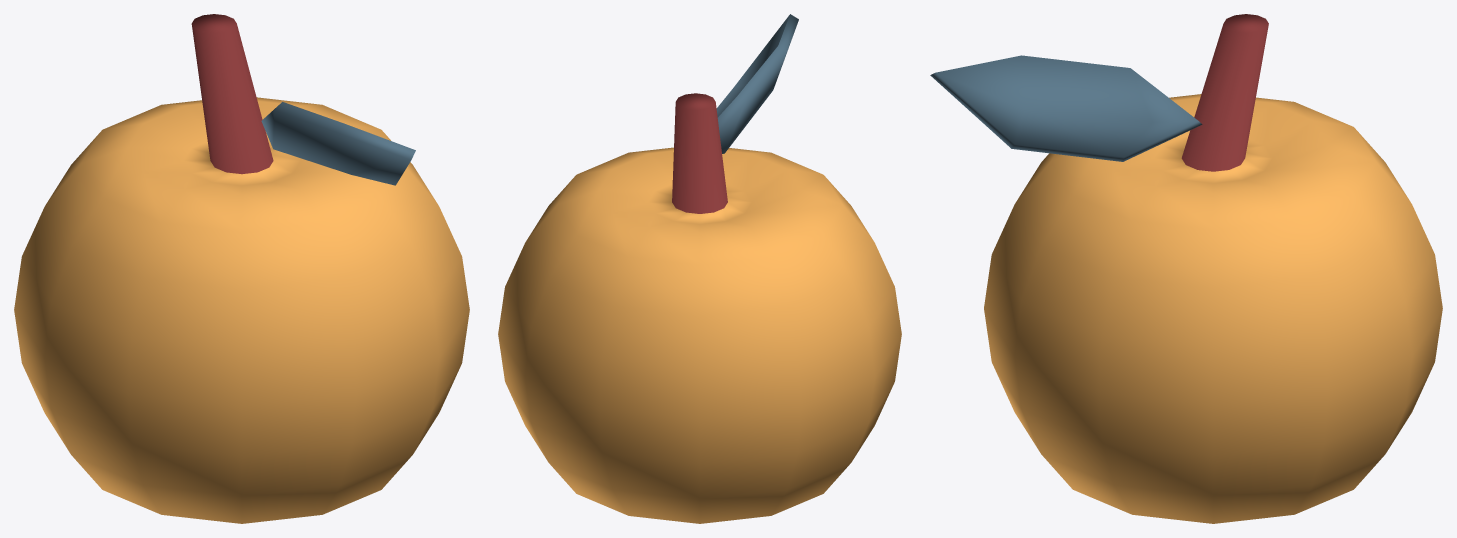
The model's file is apple_yellow.fbx.
3 views of the same model, side by side, from view 1: azimuth 30°, elevation 25°; view 2: azimuth 150°, elevation 25°; view 3: azimuth 270°, elevation 25° (orthographic). The views are drawn at different scales.
Visible parts, largest first — view 1: 球体.008, 球体.009; view 2: 球体.008, 球体.009; view 3: 球体.008, 球体.009.
Part boxes in pixels (<box>): 球体.008: <box>14,14,469,523</box>; 球体.009: <box>261,102,415,185</box>; 球体.008: <box>498,93,901,523</box>; 球体.009: <box>716,14,798,153</box>; 球体.008: <box>984,14,1442,523</box>; 球体.009: <box>930,55,1202,161</box>.
Bounding box in the file's own units: 84 × 90.05 × 93.84.
